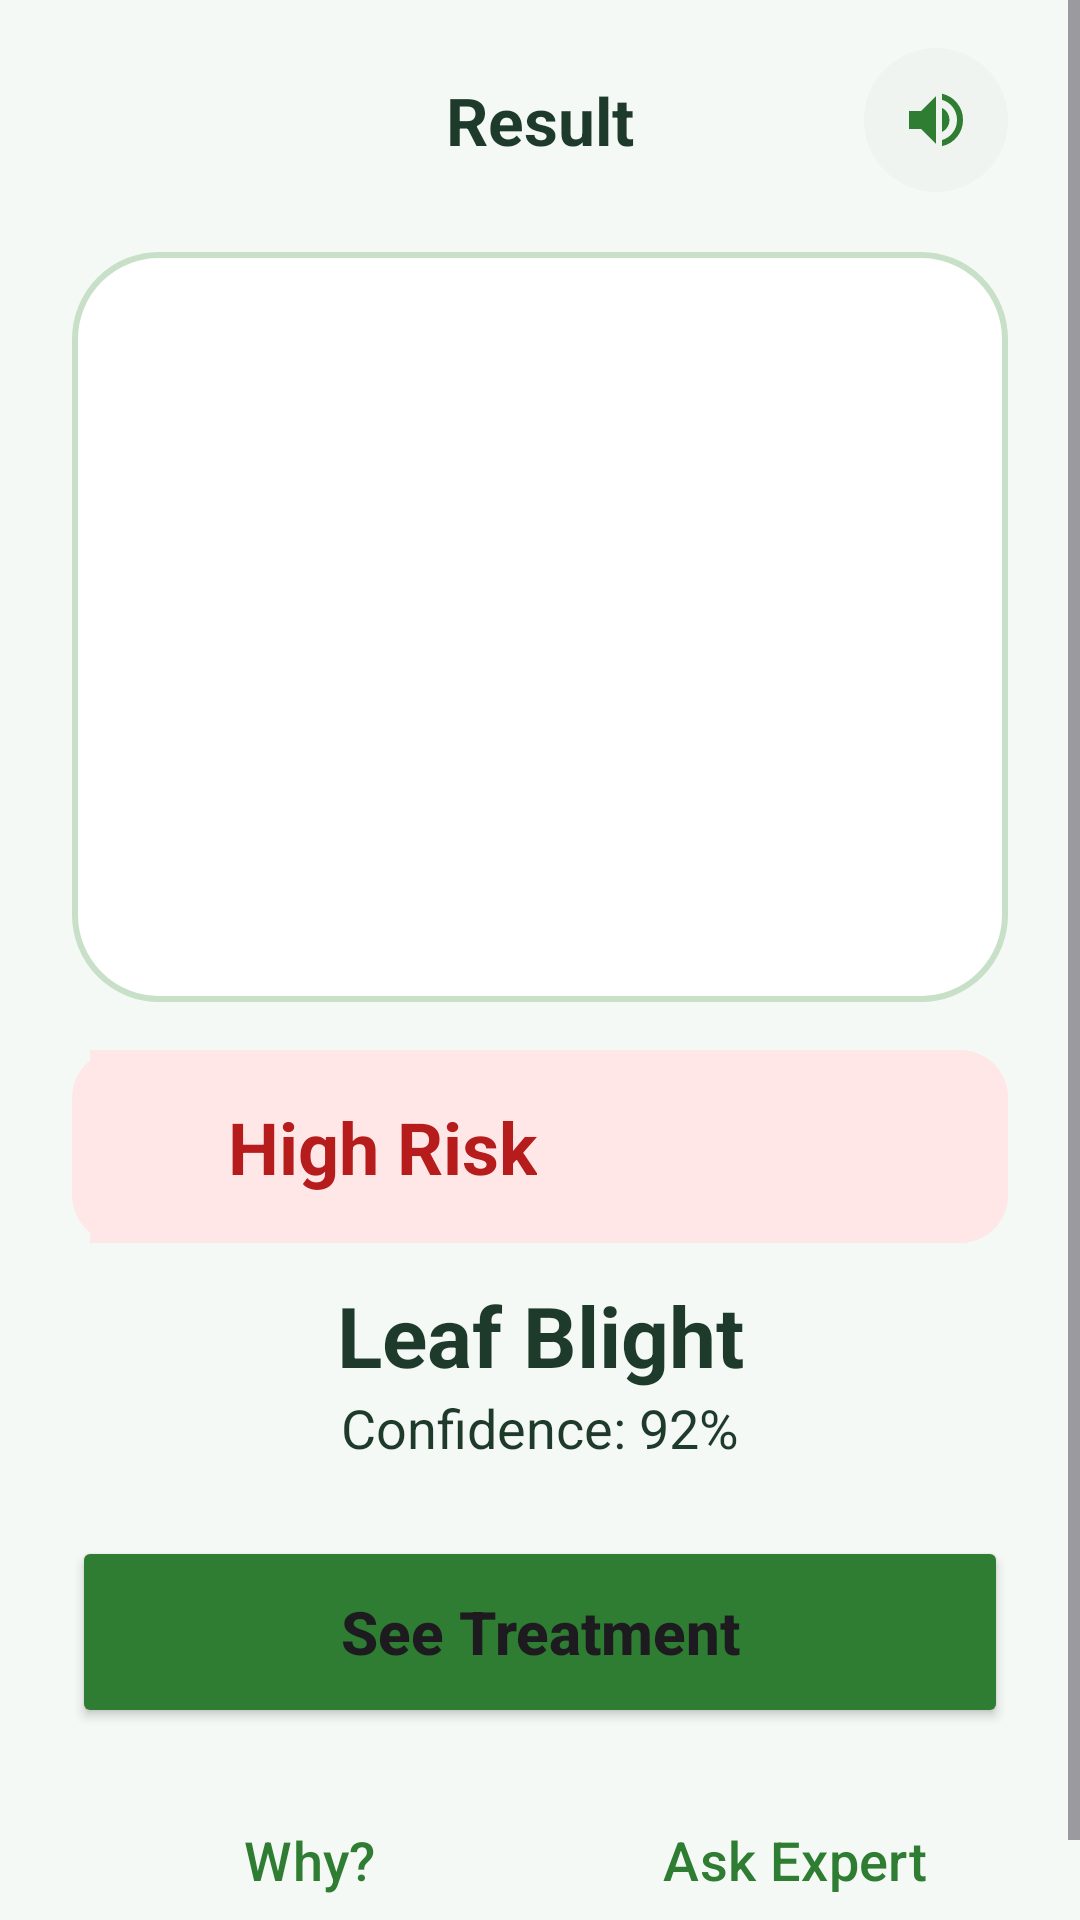

Named icons in this screenshot (1080 × 1920) and their centers, point (x, y):
Listen: point (936, 119)
